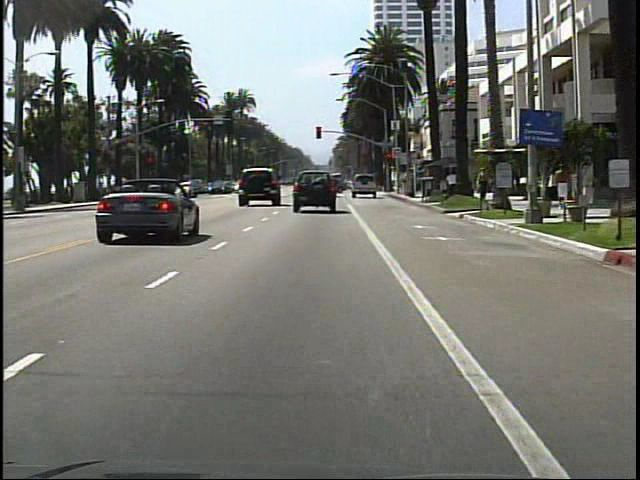person: (551, 160, 571, 211), (443, 168, 463, 200), (477, 165, 491, 207)
